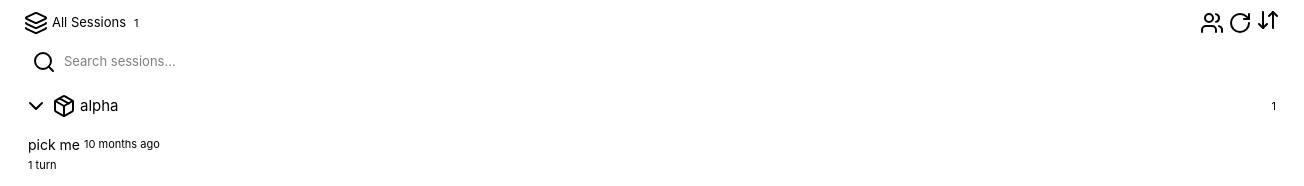
Test: SessionsNavigation: collapsing a project › collapsing hides its sessions; expanding again shows them
Click the button named "Collapse project". click: (36, 106)
box: [24,94,48,118]
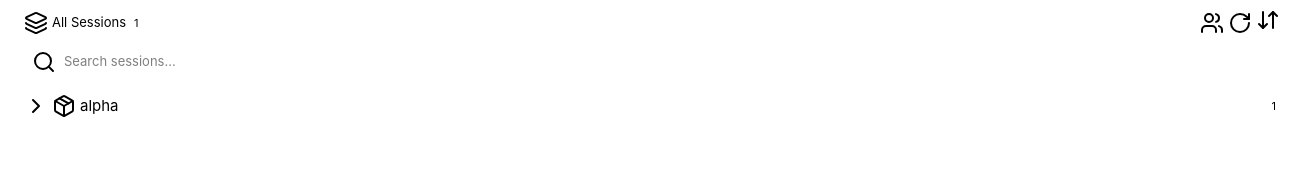
Expected: the text "pick me" is gone
Click the button named "Expand project". click: (36, 106)
box: [24,94,48,118]
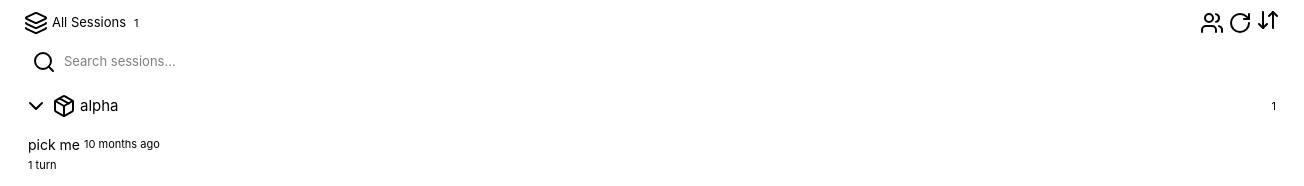
Expected: the text "pick me" is shown, [28,134,80,155]
